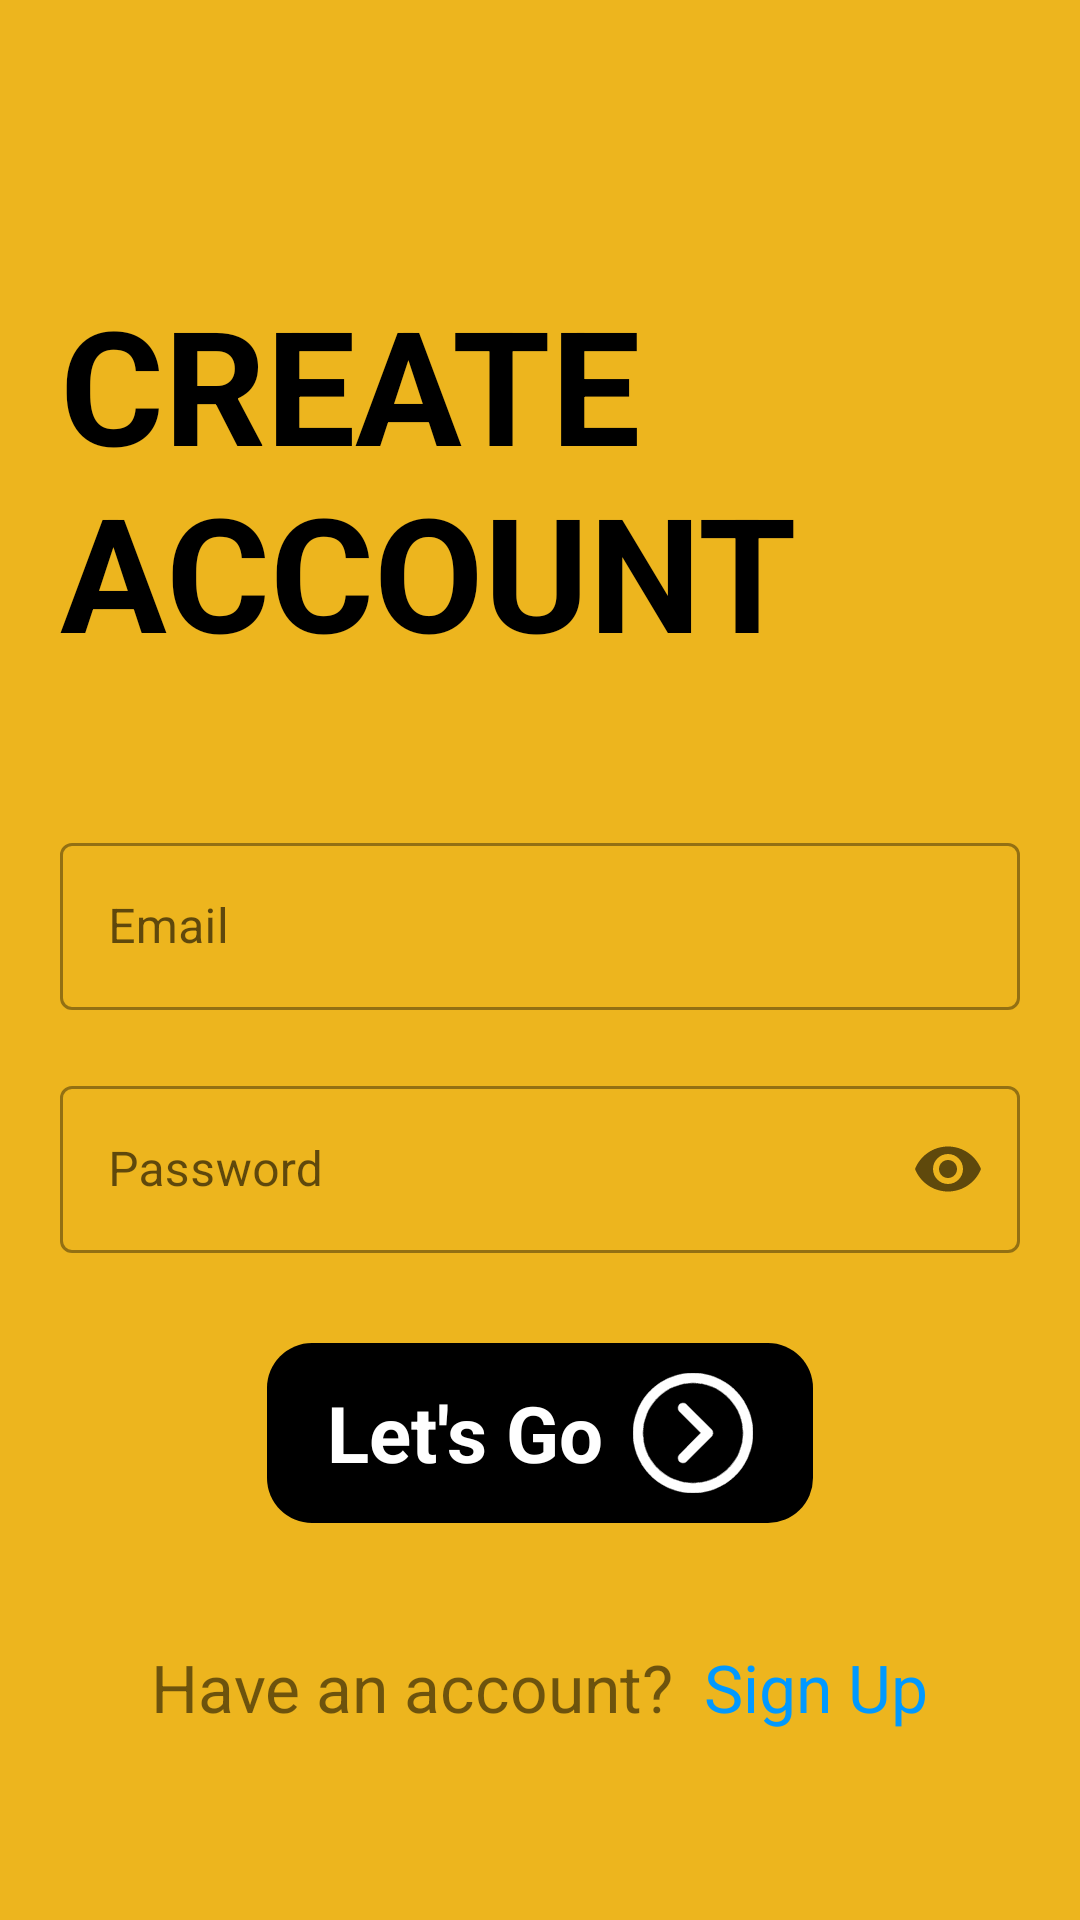

Named icons in this screenshot (1080×1920) and their centers, (x,y):
right arrow: (693,1433)
